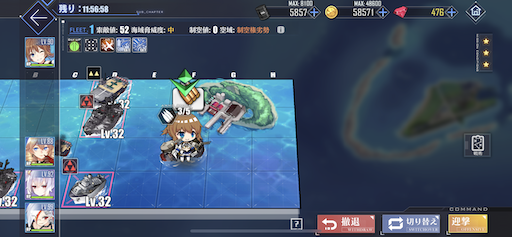lv3: (63, 158, 112, 208), (78, 94, 126, 138)
